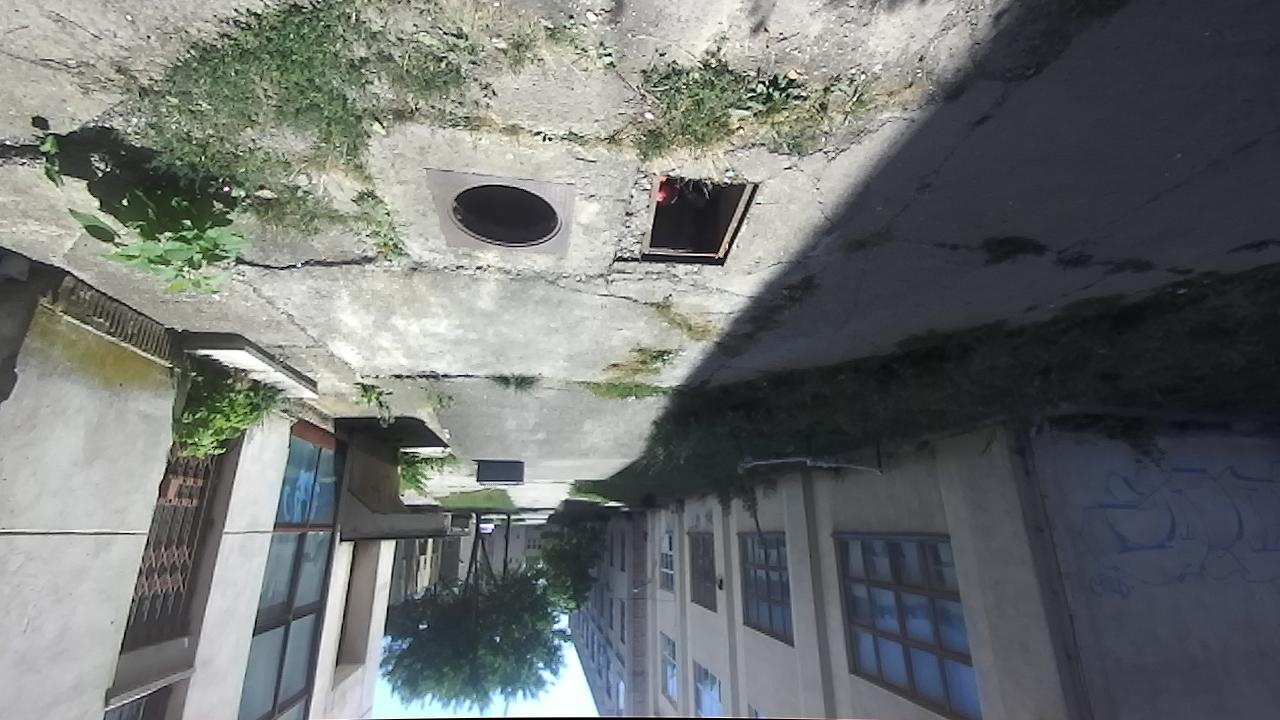drain: (634, 166, 770, 269), (443, 183, 573, 251)
